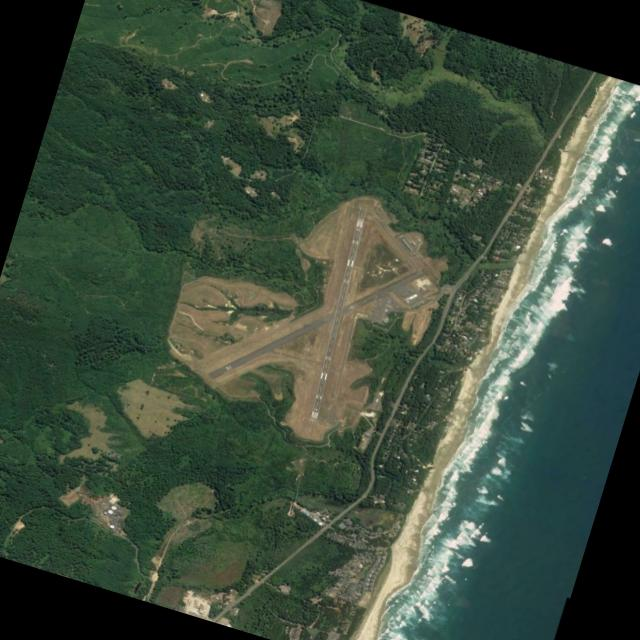storage-tank: (106, 507, 113, 514), (108, 522, 114, 528), (110, 504, 116, 509)
